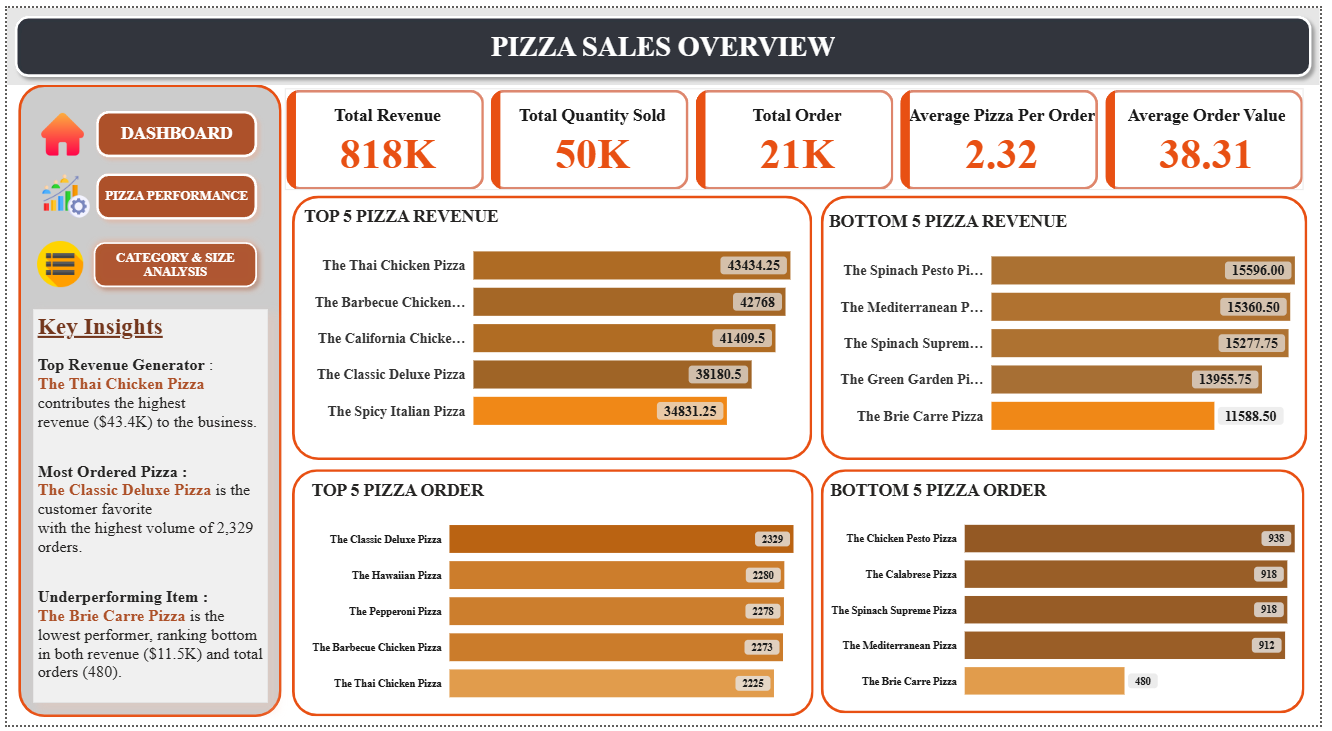

This screenshot's page, from the dashboard's own definition file:
{"tool":"powerbi","page":{"name":"Pizza Product Performance","canvas":[1500,820],"ordinal":1},"visuals":[{"type":"shape","box":[12.7,87.2,301.1,723.3],"z":0},{"type":"shape","box":[0,0,1499.9,87.7],"z":1000},{"type":"cardVisual","fields":{"Data":["pizza_sales.Total Revenue","pizza_sales.Total Quantity Sold","pizza_sales.Total Order","pizza_sales.Average Pizza Per Order","pizza_sales.Average Order Value"]},"box":[313.4,87.7,1174,126.7],"z":2000},{"type":"shape","box":[325.7,213.8,594.7,302.3],"z":3000},{"type":"shape","box":[325.7,527.8,596.3,282.3],"z":4000},{"type":"shape","box":[930.4,213.8,556.2,302.3],"z":5000},{"type":"image","box":[34.8,114.2,58.5,59.9],"z":6000},{"type":"barChart","title":"TOP 5 PIZZA REVENUE","fields":{"Category":["pizza_sales.pizza_name"],"Y":["pizza_sales.Total Revenue"]},"box":[334.1,227.2,566.3,272.3],"z":7000},{"type":"barChart","title":"TOP 5 PIZZA ORDER","fields":{"Category":["pizza_sales.pizza_name"],"Y":["pizza_sales.Total Order"]},"box":[342.4,539.5,561.2,270.6],"z":8000},{"type":"barChart","title":"BOTTOM 5 PIZZA REVENUE","fields":{"Category":["pizza_sales.pizza_name"],"Y":["pizza_sales.Total Revenue"]},"box":[933.7,232.2,542.9,272.3],"z":9000},{"type":"shape","box":[930.4,527.8,552.9,279],"z":10000},{"type":"barChart","title":"BOTTOM 5 PIZZA ORDER","fields":{"Category":["pizza_sales.pizza_name"],"Y":["pizza_sales.Total Order"]},"box":[935.4,539.5,541.2,267.3],"z":11000},{"type":"shape","title":"DASHBOARD","box":[93.3,108.6,201.9,71],"z":12000},{"type":"shape","title":"DASHBOARD","box":[93.3,179.7,201.9,71],"z":13000},{"type":"image","box":[34.8,179.7,66.8,69.6],"z":14000},{"type":"textbox","box":[29.5,344,268.3,449.3],"z":15000},{"type":"shape","box":[90.5,259,204.7,69.6],"z":16000},{"type":"image","box":[26.5,261.8,66.8,62.7],"z":17000}]}

Visuals, with their boxes in screenshot pixels (x1, y1, x2, y2), scaled from the page's 1500x820 canvas onto the 1332x731 screenshot:
shape: 11,78,279,723
shape: 0,0,1331,78
cardVisual - pizza_sales.Total Revenue x pizza_sales.Total Quantity Sold: 278,78,1321,191
shape: 289,191,817,460
shape: 289,471,819,722
shape: 826,191,1320,460
image: 31,102,83,155
"TOP 5 PIZZA REVENUE" barChart: 297,203,800,445
"TOP 5 PIZZA ORDER" barChart: 304,481,802,722
"BOTTOM 5 PIZZA REVENUE" barChart: 829,207,1311,450
shape: 826,471,1317,719
"BOTTOM 5 PIZZA ORDER" barChart: 831,481,1311,719
"DASHBOARD" shape: 83,97,262,160
"DASHBOARD" shape: 83,160,262,223
image: 31,160,90,222
textbox: 26,307,264,707
shape: 80,231,262,293
image: 24,233,83,289
